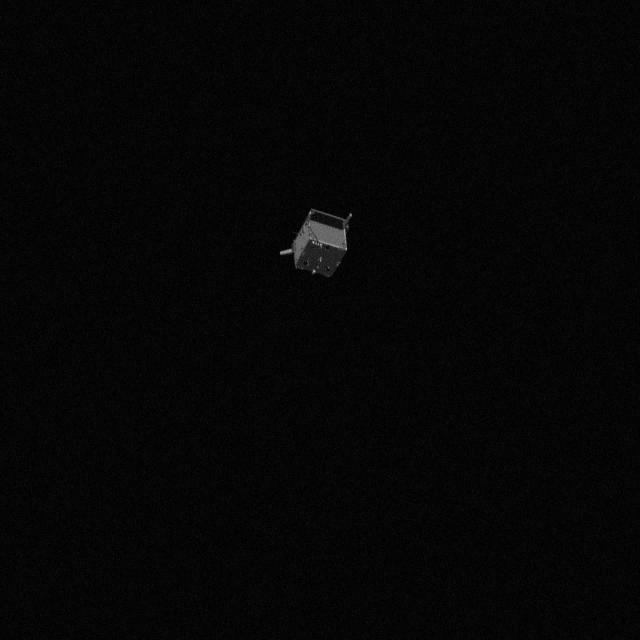medium_debris: (278, 202, 360, 282)
